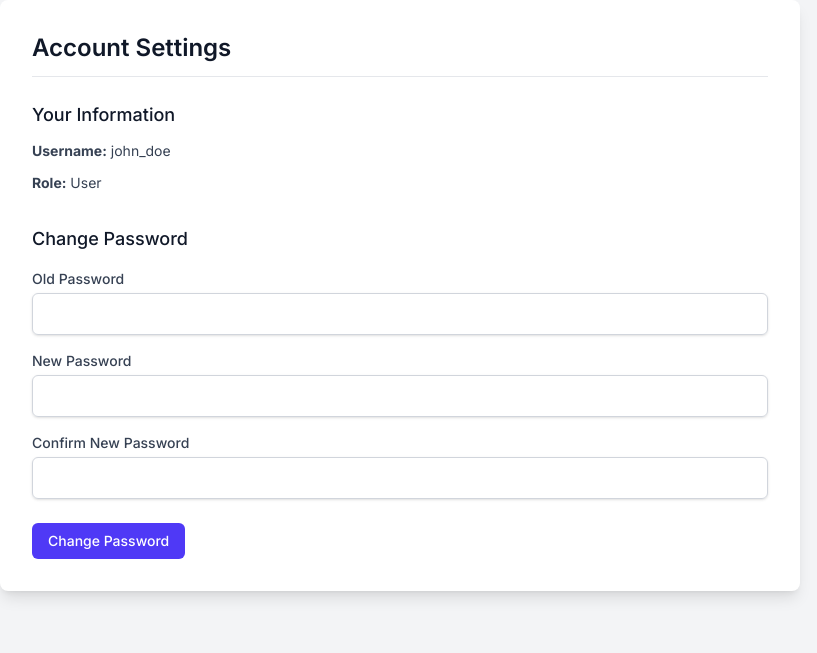
Scenario: Account & Auth Pages Suite › AccountPage › displays fallback error when apiChangePassword fails with empty message
This screenshot has width=817, height=653.
Type "wrongPass" into the password field labelled "Old Password".
click(400, 314); type("wrongPass")  # box [32,293,768,335]
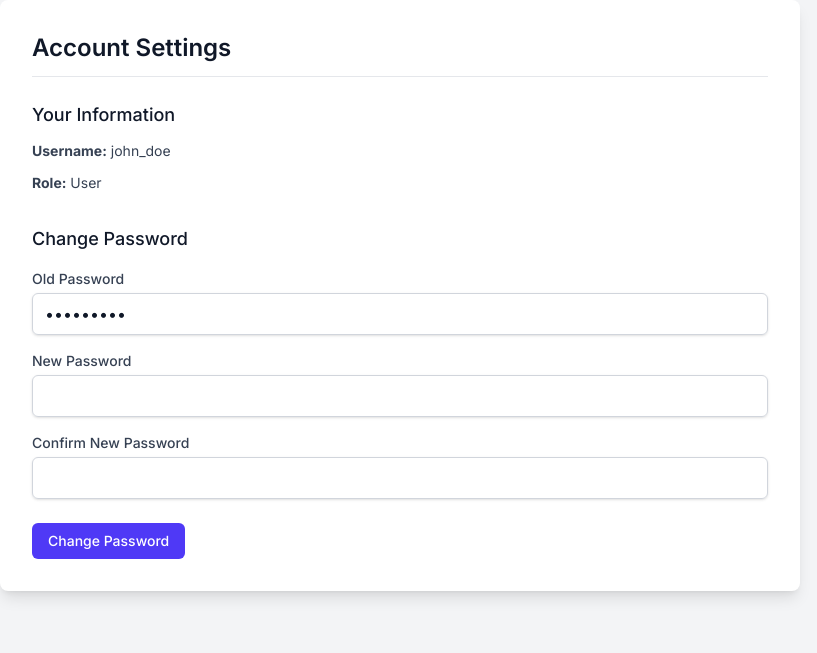
Type "NewPass123!" into the password field labelled "New Password".
click(400, 396); type("NewPass123!")  # box [32,375,768,417]
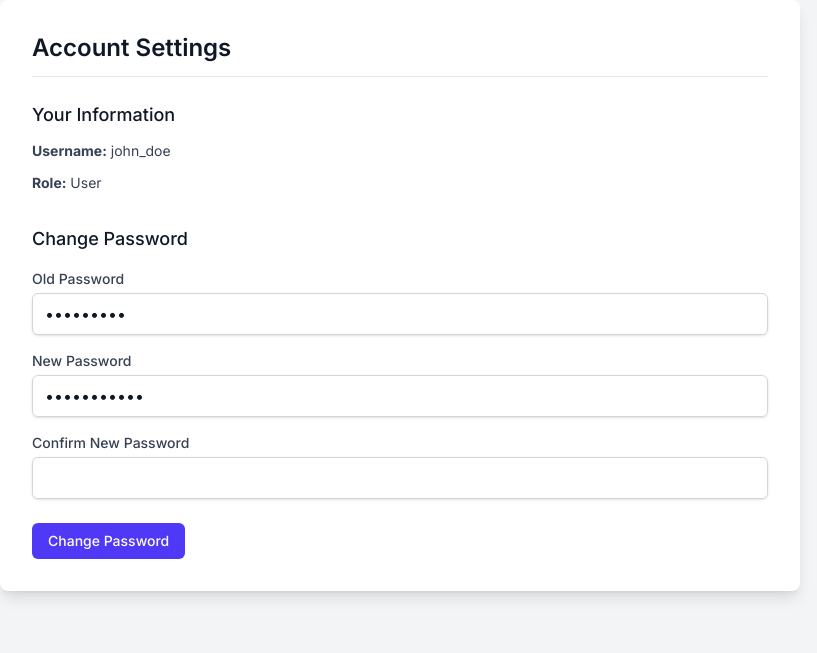
Type "NewPass123!" into the password field labelled "Confirm New Password".
click(400, 478); type("NewPass123!")  # box [32,457,768,499]
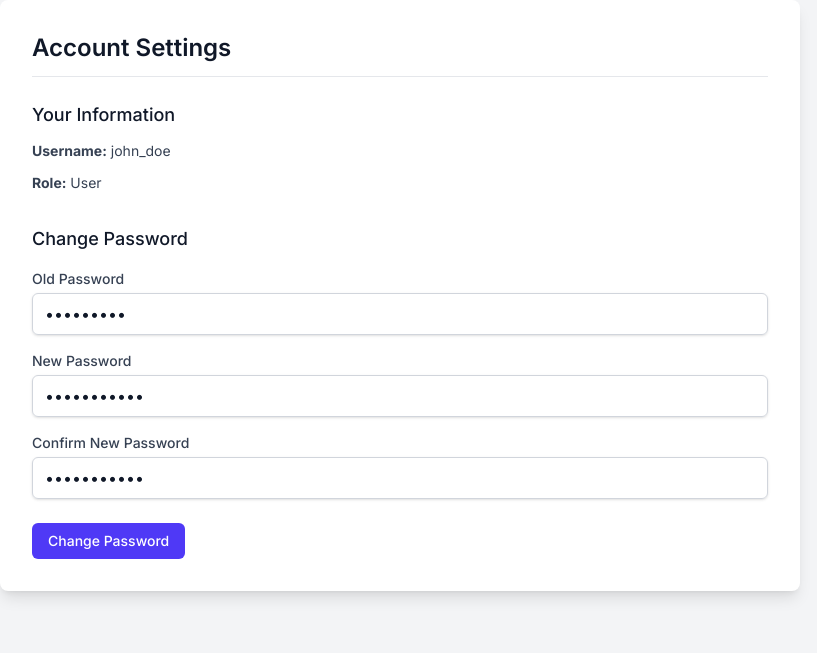
Click the button "Change Password".
click(109, 541)  # box [32,523,185,559]
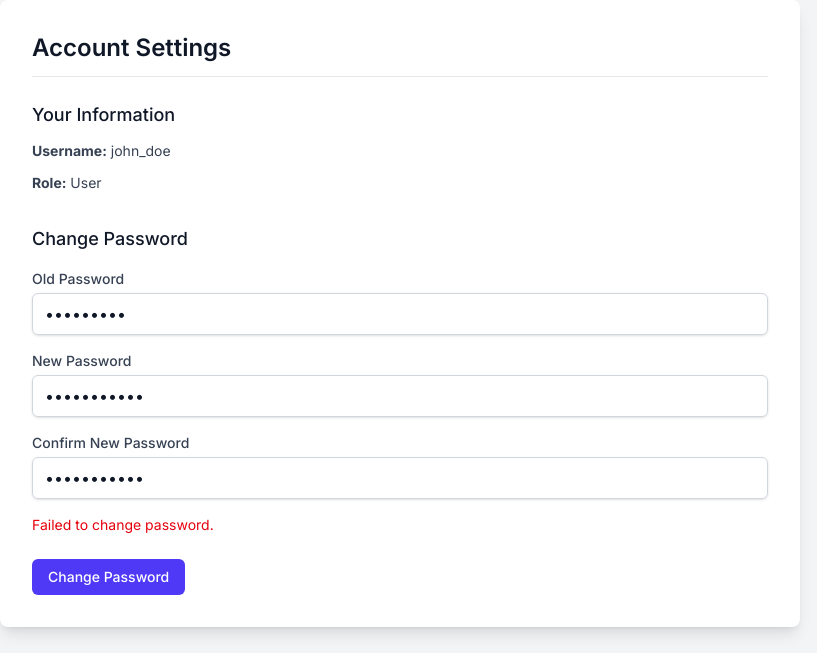
Result: the text "Failed to change password." is shown at [32,516,214,533]
